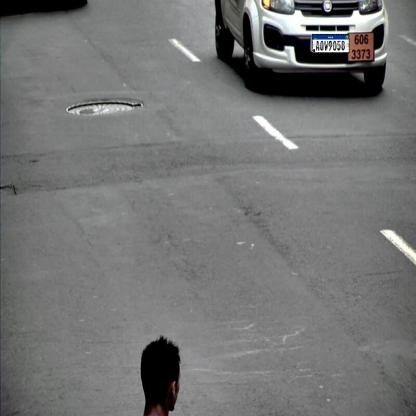PlacaM: (312, 34, 349, 53)
